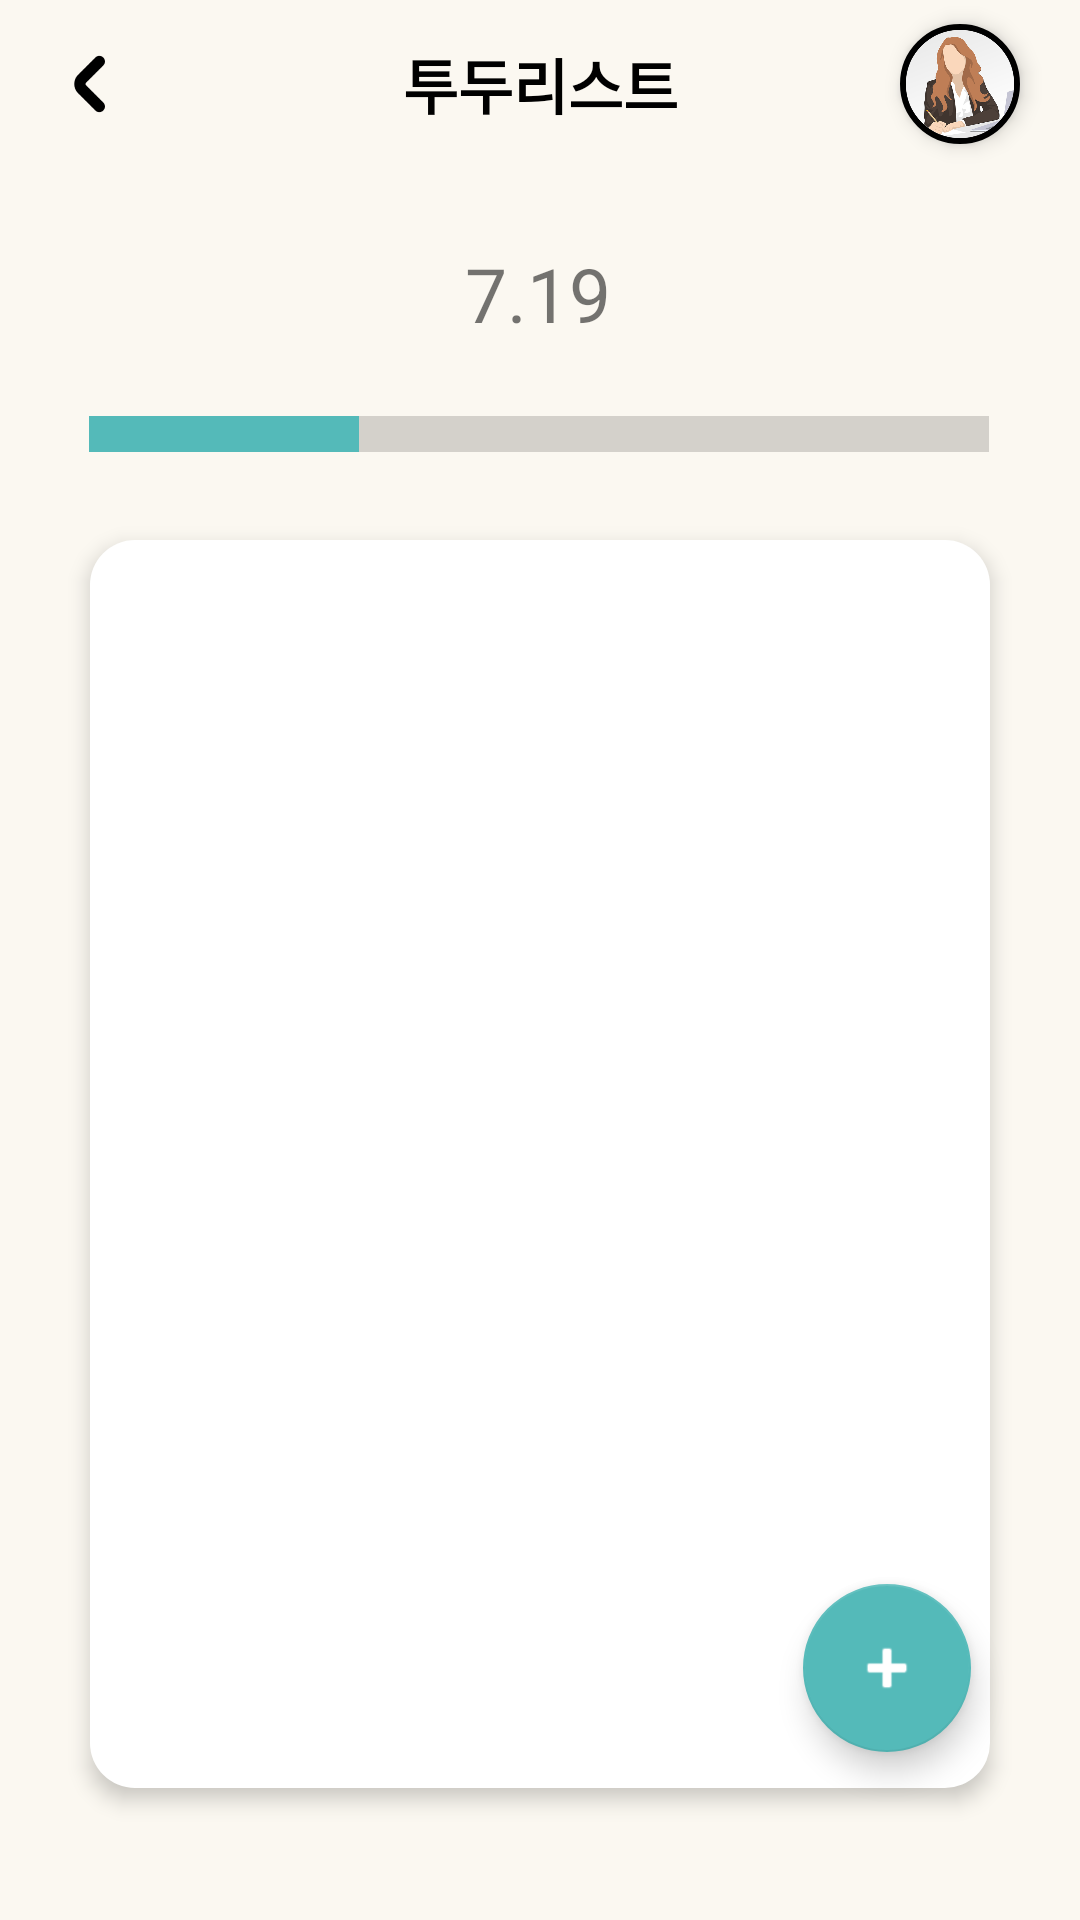

Icon click points for this 1080 × 1920 phone screenshot, format [x,y]:
add: [887,1668]
back: [89,84]
profile: [960,84]
